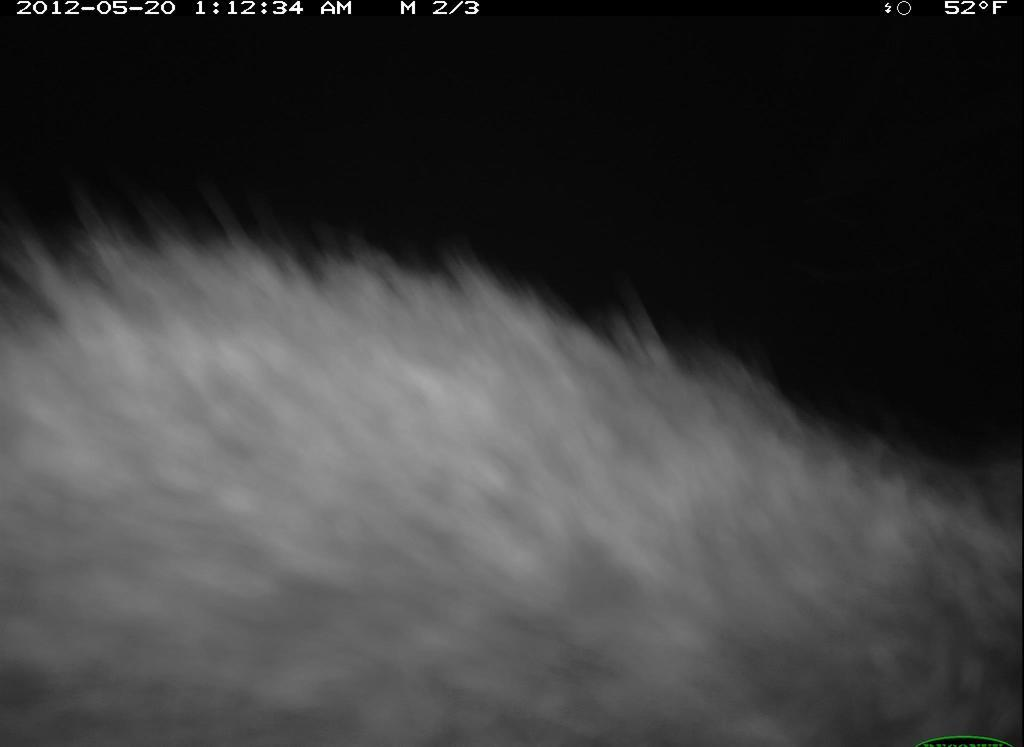raccoon: (26, 178, 1022, 745)
